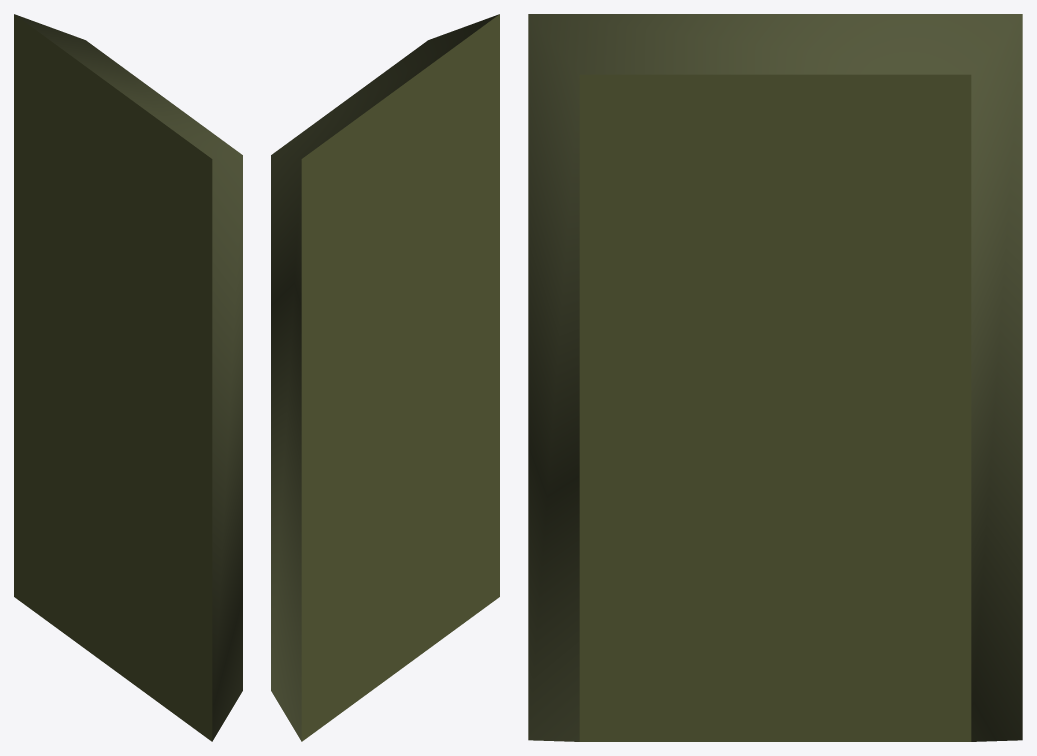
Rendered from HotDrinksMaintPanel.glb.
The picture shows the model from 3 angles, left to right: view 1: azimuth 30°, elevation 25°; view 2: azimuth 150°, elevation 25°; view 3: azimuth 270°, elevation 25°; orthographic projection. The views are drawn at different scales.
Visible parts, largest first — view 1: HotDrinksMaintPanel; view 2: HotDrinksMaintPanel; view 3: HotDrinksMaintPanel.
Part boxes in pixels (box(x1,y1,x2,y2)): HotDrinksMaintPanel: box(14, 14, 242, 741); HotDrinksMaintPanel: box(271, 14, 499, 741); HotDrinksMaintPanel: box(528, 14, 1022, 741).
Bounding box in the file's own units: 0.0316 × 0.3431 × 0.2115.
1 material, 1 textured.
